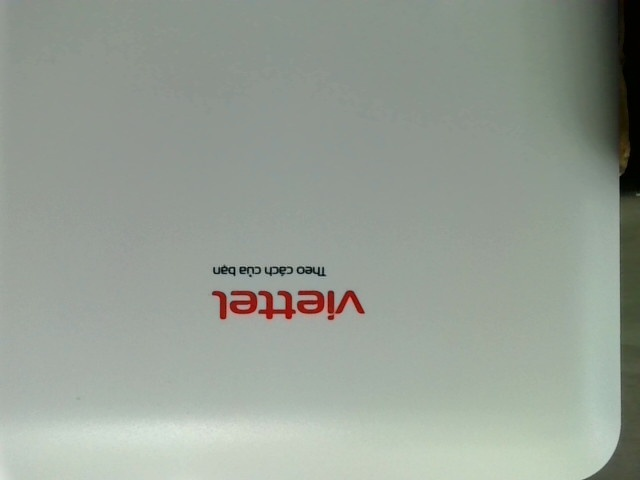AY_Viettel: (204, 256, 382, 322)
